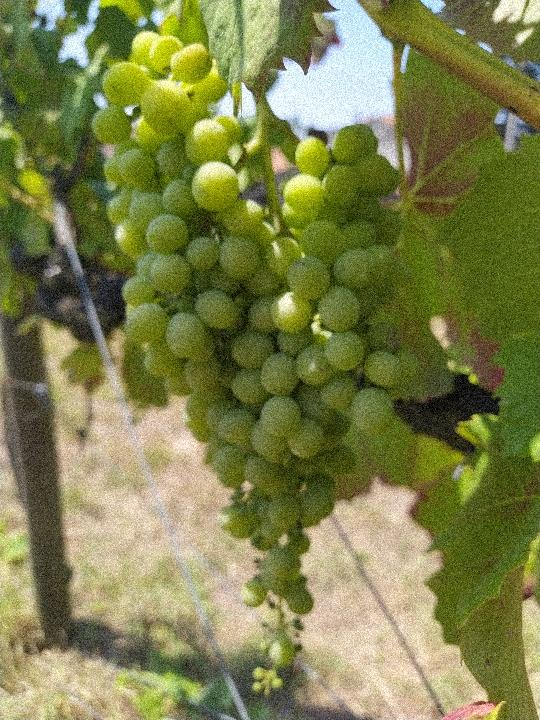grape: (91, 28, 403, 703)
